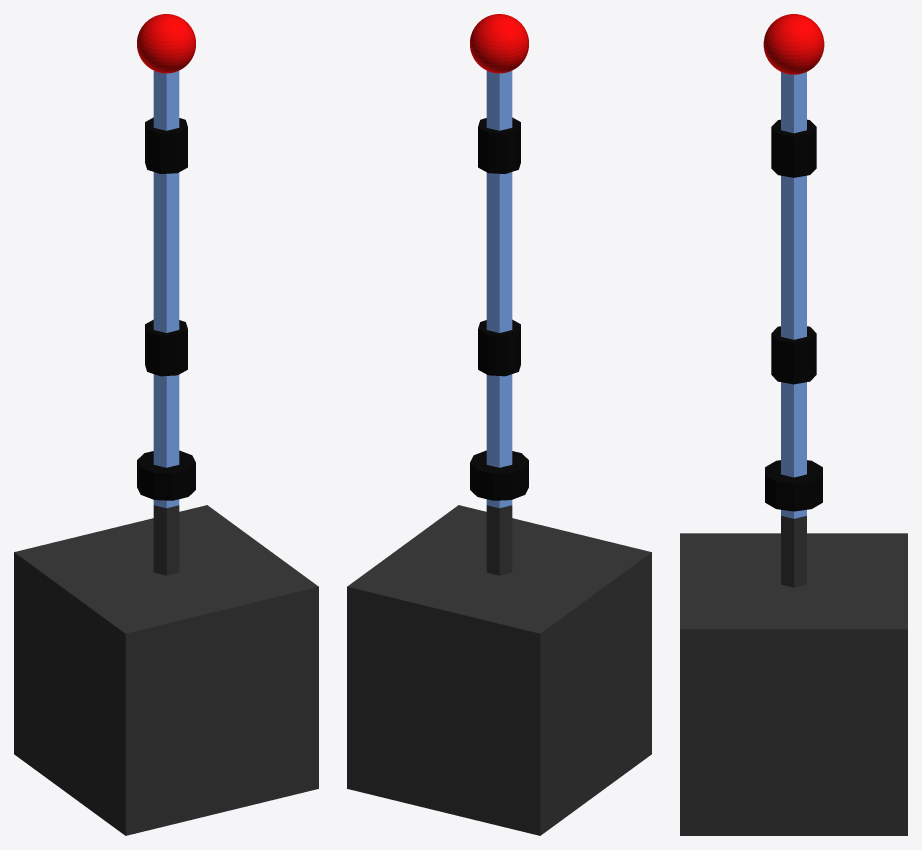
The model's file is sc_3dof.rounded.dae.
The picture shows the model from 3 angles, left to right: view 1: azimuth 30°, elevation 25°; view 2: azimuth 150°, elevation 25°; view 3: azimuth 270°, elevation 25°; orthographic projection. The views are drawn at different scales.
Visible parts, largest first — view 1: Spacecraft, Link_2 (×2), Link_3 (×2), Link_1 (×2), Link_EE, Link_0; view 2: Spacecraft, Link_2 (×2), Link_3 (×2), Link_1 (×2), Link_EE, Link_0; view 3: Spacecraft, Link_2 (×2), Link_3 (×2), Link_EE, Link_1 (×2), Link_0.
Boxes of the visible parts, x1,y1,x2,y2 form: Spacecraft: (14,505,318,835); Link_2 (×2): (145,249,187,454); Link_3 (×2): (145,71,187,251); Link_1 (×2): (137,450,195,508); Link_EE: (137,14,195,73); Link_0: (153,505,179,575); Spacecraft: (347,505,651,835); Link_2 (×2): (478,249,520,454); Link_3 (×2): (478,71,520,251); Link_1 (×2): (470,450,528,508); Link_EE: (470,14,528,73); Link_0: (486,505,512,575); Spacecraft: (680,533,907,835); Link_2 (×2): (771,254,816,463); Link_3 (×2): (771,72,816,257); Link_EE: (763,14,824,74); Link_1 (×2): (765,460,822,518); Link_0: (781,516,806,587).
Bounding box in the file's own units: 0.75 × 0.75 × 2.8.
